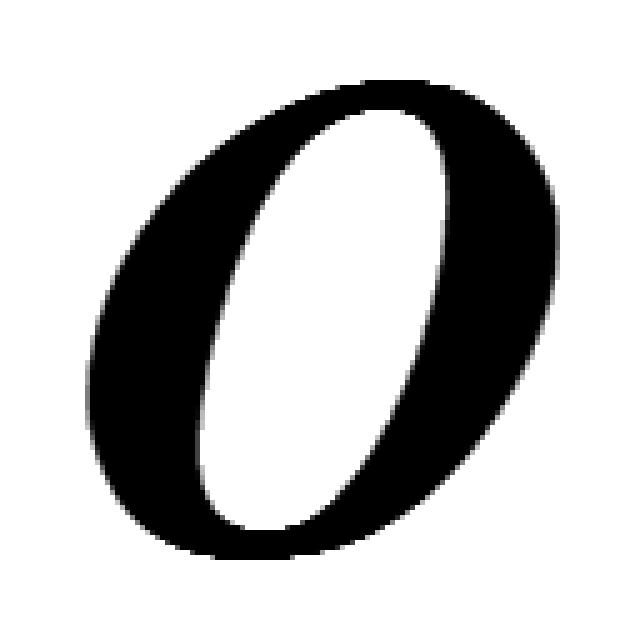O: (85, 80, 560, 565)
